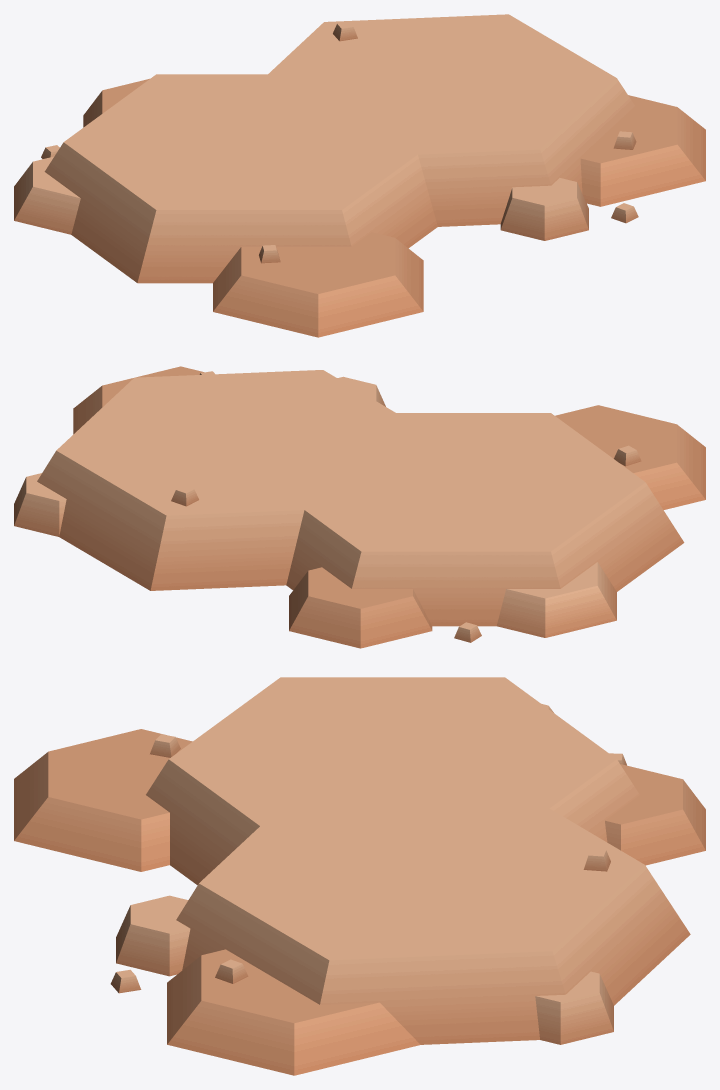
The model's file is ks_rock_flat.glb.
The picture shows the model from 3 angles, top to bottom: view 1: azimuth 30°, elevation 25°; view 2: azimuth 150°, elevation 25°; view 3: azimuth 270°, elevation 25°; orthographic projection. The views are drawn at different scales.
Parts seen in each view (by area): view 1: rock-flat; view 2: rock-flat; view 3: rock-flat.
Part boxes in pixels (x1=…): rock-flat: x1=14, y1=14, x2=705, y2=337; rock-flat: x1=14, y1=366, x2=705, y2=648; rock-flat: x1=14, y1=677, x2=705, y2=1075.
Size of the model in its own units: 4.64 by 0.507 by 3.76.
Materials: 1 (1 with a texture image).
